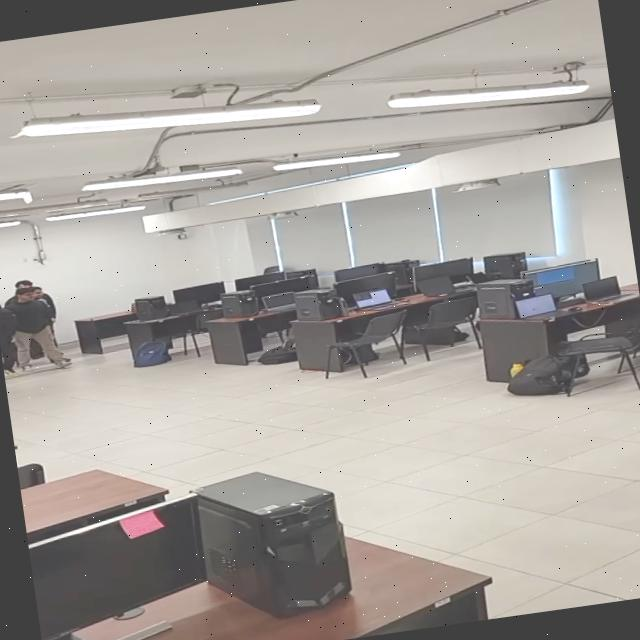Persona: (6, 284, 68, 379)
